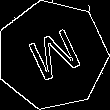M_SE: (20, 23, 85, 88)
